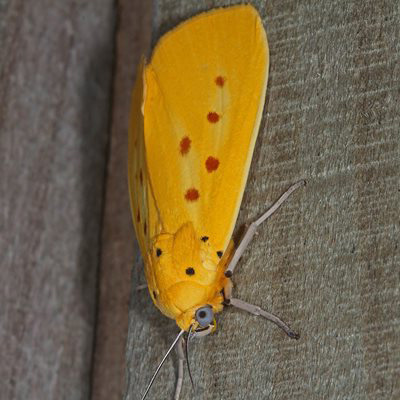Agape chloropyga: (127, 2, 307, 400)
moth: (126, 2, 306, 400)
